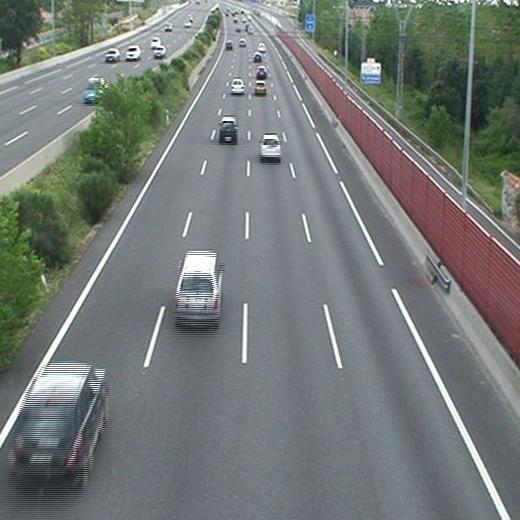car: (11, 366, 106, 471), (174, 253, 221, 326), (260, 135, 282, 159), (219, 117, 238, 141), (231, 79, 245, 93), (255, 82, 266, 95), (256, 66, 267, 78), (238, 38, 246, 47), (253, 53, 261, 61), (225, 40, 232, 49), (257, 42, 264, 50)
